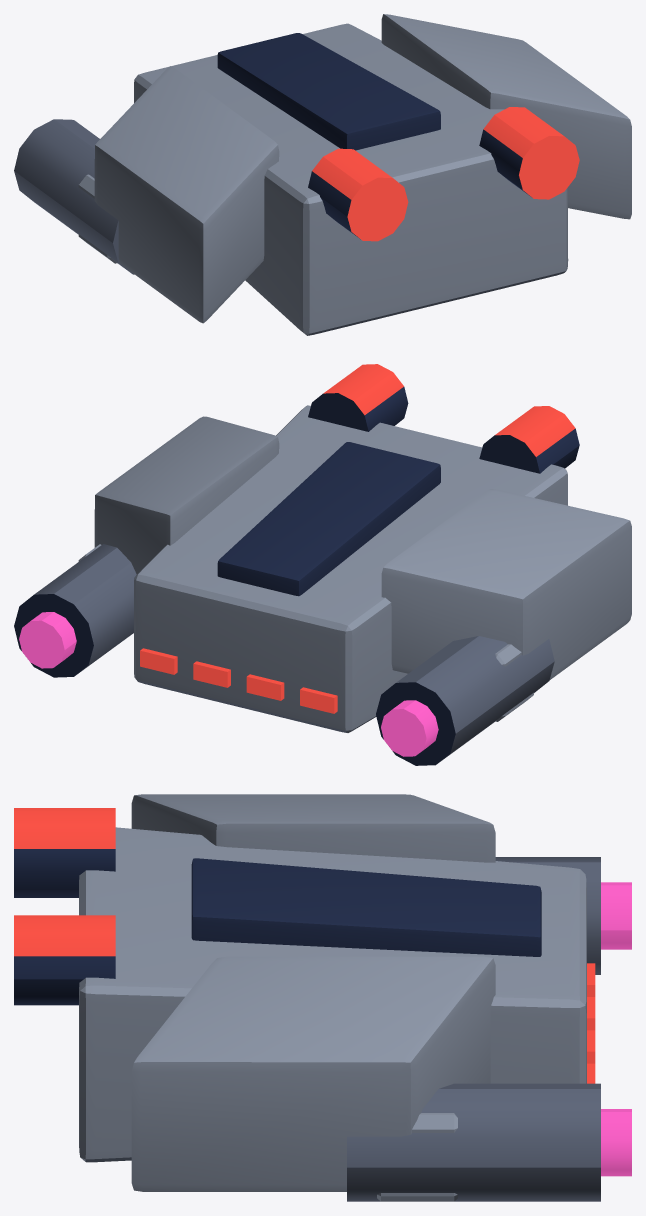
File: enemy_shooter.glb
3 renders of one model, top to bottom at view 1: azimuth 30°, elevation 25°; view 2: azimuth 150°, elevation 25°; view 3: azimuth 270°, elevation 25°, orthographic. The views are drawn at different scales.
Visible parts, largest first — view 1: enemy_shooter; view 2: enemy_shooter; view 3: enemy_shooter.
Boxes of the visible parts, x1,y1,x2,y2 form: enemy_shooter: [14, 14, 631, 335]; enemy_shooter: [14, 364, 631, 765]; enemy_shooter: [14, 794, 631, 1201].
Size of the model in its own units: 2.32 by 0.85 by 2.19.
2 materials, 2 textured.
